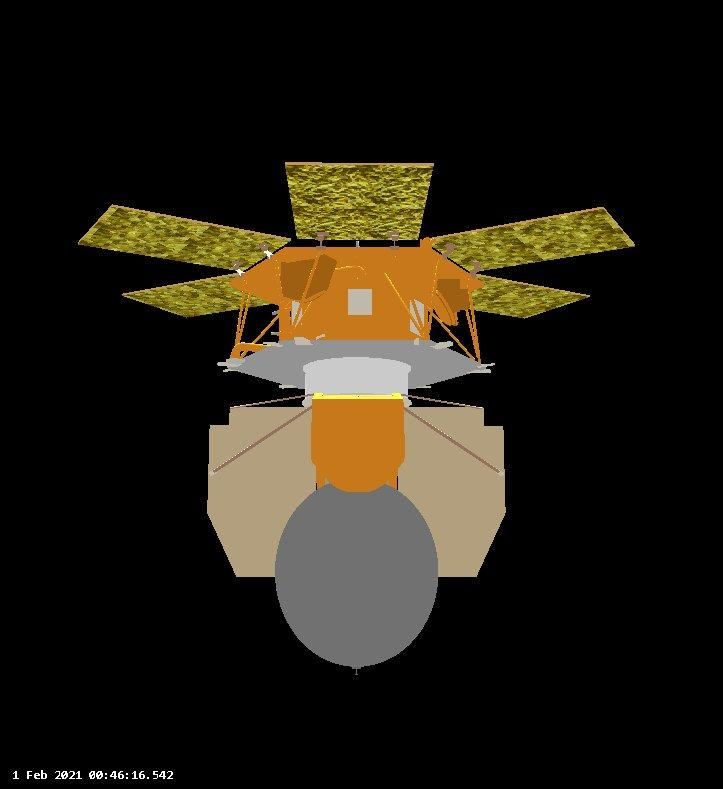antenna: (273, 479, 441, 671)
body: (215, 234, 497, 402)
solar: (204, 395, 508, 582), (72, 202, 294, 274), (429, 203, 642, 277), (282, 155, 434, 246), (119, 270, 294, 324), (459, 271, 595, 323)
